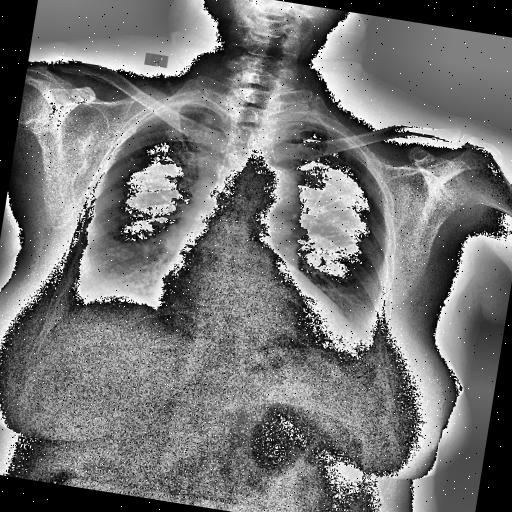0- Aortic enlargement: (230, 162, 308, 223), (246, 162, 310, 226), (239, 159, 306, 219)
3- Cardiomegaly: (147, 260, 359, 352), (146, 276, 362, 355), (147, 276, 363, 350)
